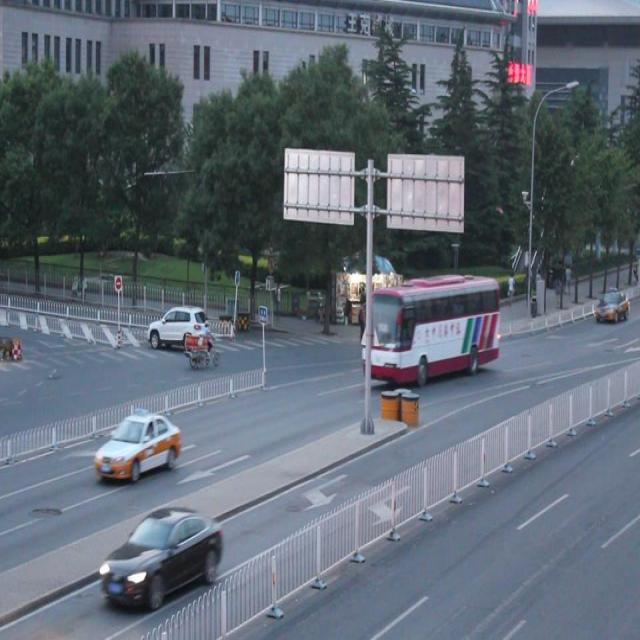car: (99, 502, 224, 606), (94, 410, 181, 480), (148, 308, 212, 358), (595, 284, 625, 319)
van: (366, 274, 497, 384)
